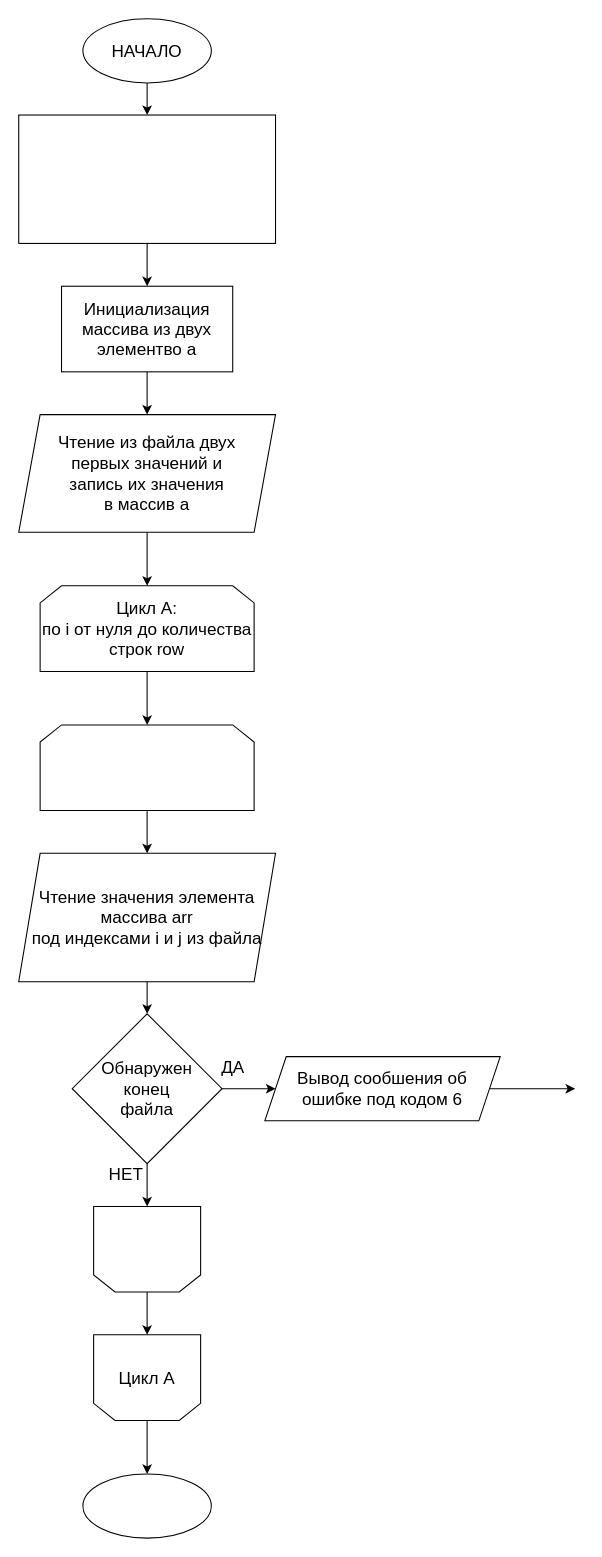
The diagram is 602 pixels wide and 1557 high, and some of its shapes have lost their labels. The centre of each missing label's shape, as x and y in pixels:
КОНЕЦ: (146,1505)
Создание переменной класса ifstream FN для чтения данных из файла: (147,178)
Цикл В: (147,1248)
Цикл В: по j от нуля до количества столбцов col: (146,767)
